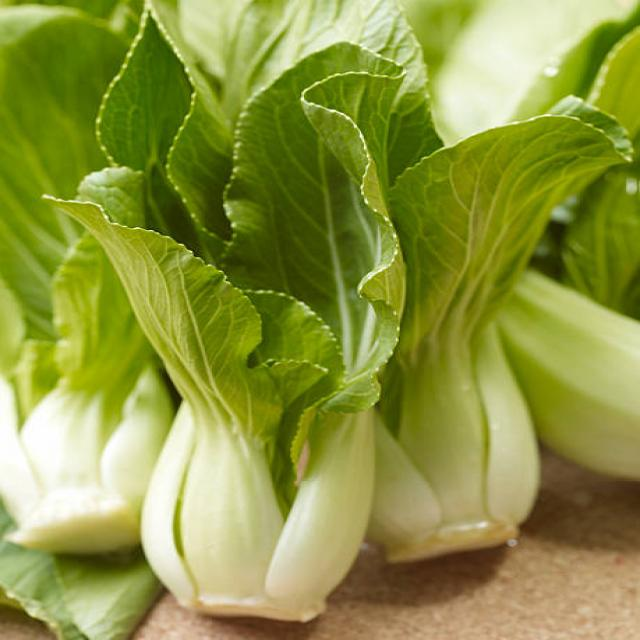Bok Choy: (127, 164, 338, 618), (384, 199, 516, 557), (0, 171, 110, 546)
